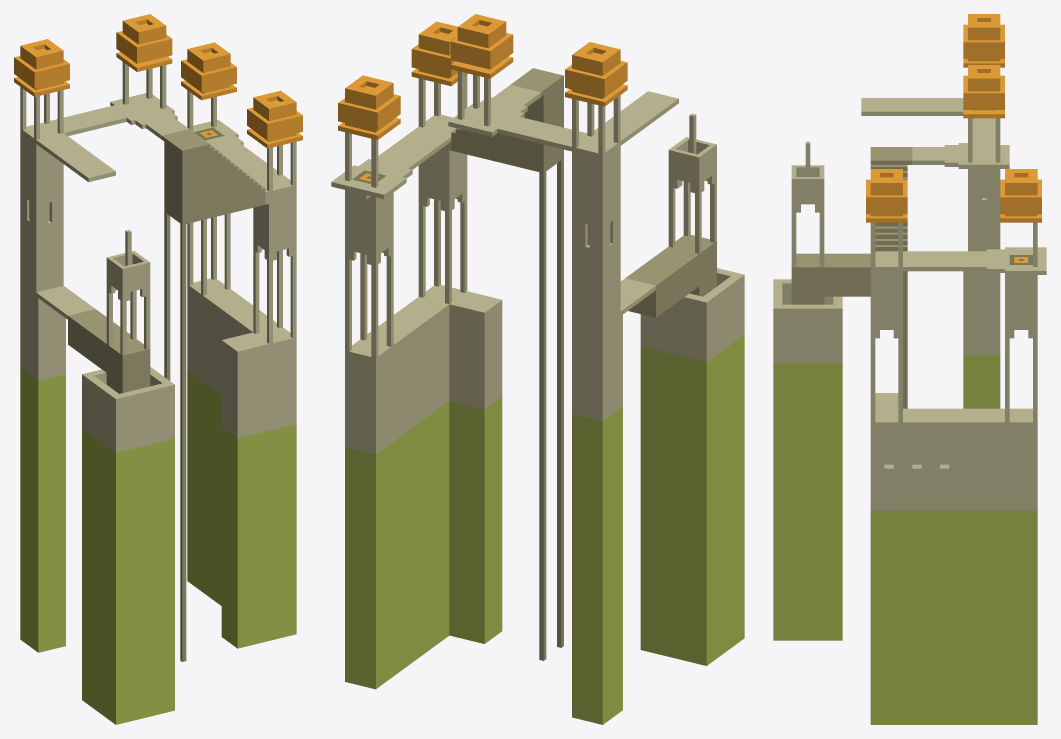
Rendered from cena3.obj.
3 views of the same model, side by side, from view 1: azimuth 30°, elevation 25°; view 2: azimuth 150°, elevation 25°; view 3: azimuth 270°, elevation 25° (orthographic). The views are drawn at different scales.
Bounding box in the file's own units: 6 × 14.4 × 5.9.
1 material, 1 textured.
